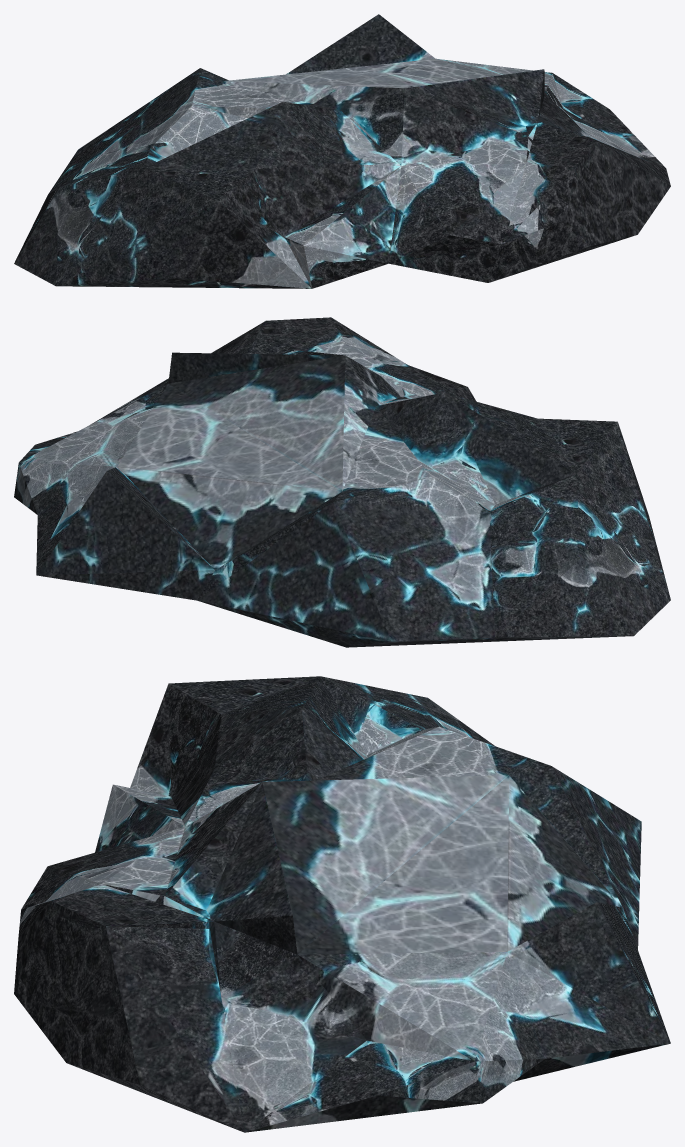
The model's file is ore-palladium.glb.
The picture shows the model from 3 angles, top to bottom: view 1: azimuth 30°, elevation 25°; view 2: azimuth 150°, elevation 25°; view 3: azimuth 270°, elevation 25°; orthographic projection. The views are drawn at different scales.
Parts seen in each view (by area): view 1: output_unwrapped; view 2: output_unwrapped; view 3: output_unwrapped.
Boxes of the visible parts, bbox=[...] form: output_unwrapped: bbox=[14, 14, 670, 288]; output_unwrapped: bbox=[14, 317, 670, 647]; output_unwrapped: bbox=[14, 676, 670, 1132].
Size of the model in its own units: 1.78 by 0.4214 by 1.29.
Materials: 1 (1 with a texture image).
